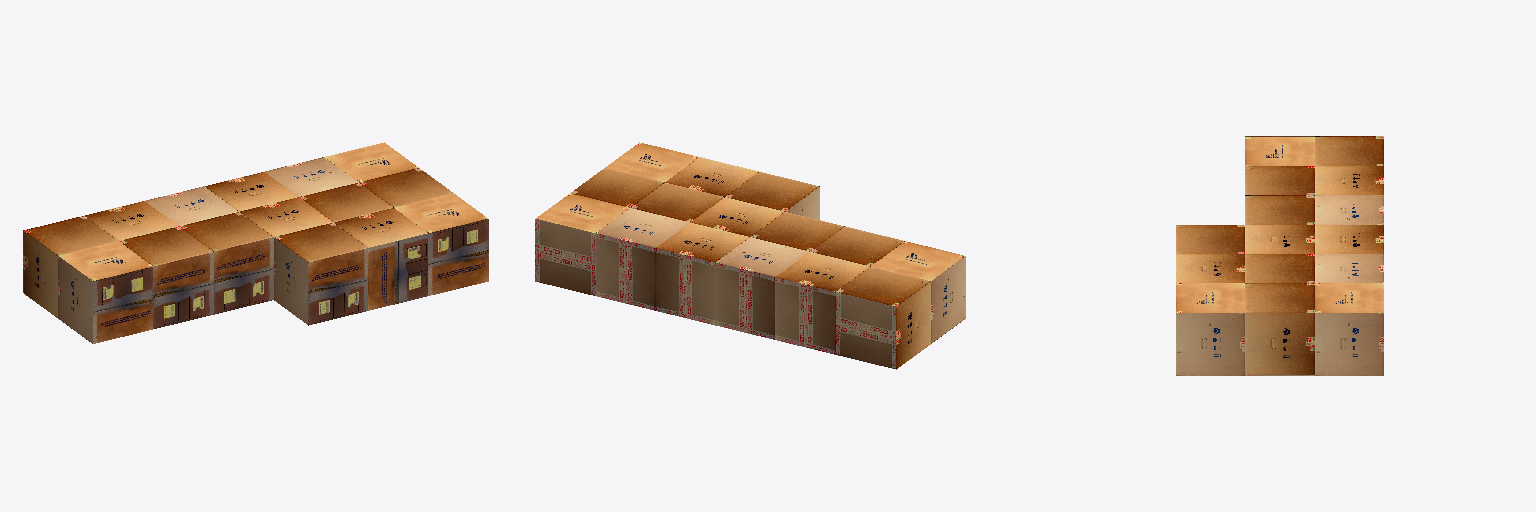
The picture shows the model from 3 angles: view 1: azimuth 30°, elevation 25°; view 2: azimuth 150°, elevation 25°; view 3: azimuth 270°, elevation 25°; orthographic projection.
Visible parts, largest first — view 1: boxes1; view 2: boxes1; view 3: boxes1.
Boxes of the visible parts, x1,y1,x2,y2 form: boxes1: [23, 142, 488, 343]; boxes1: [535, 142, 965, 369]; boxes1: [1176, 136, 1383, 375].
Size of the model in its own units: 3.6 by 0.6 by 1.8.
1 materials, 1 textured.